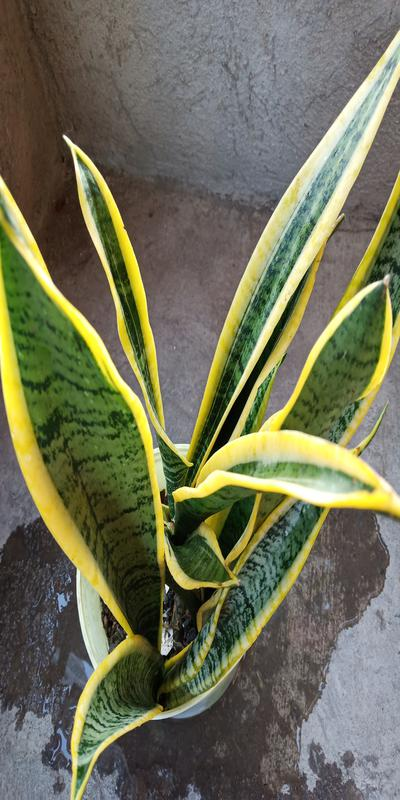Snake plant: (4, 184, 398, 699)
